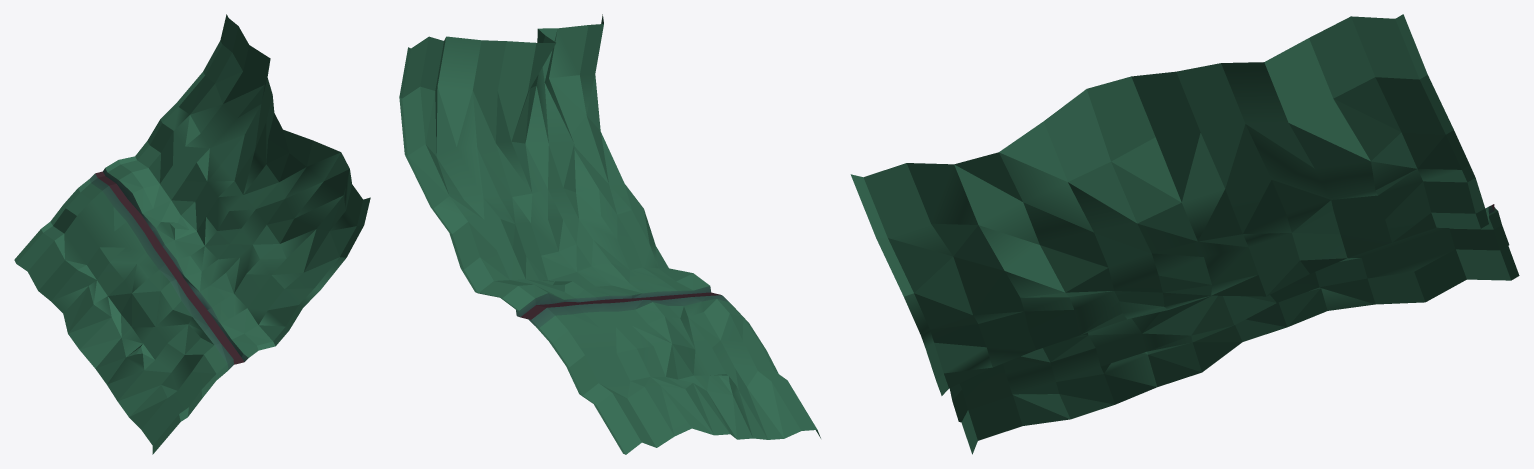
The model's file is groundPlane_3_20.glb.
The picture shows the model from 3 angles, left to right: view 1: azimuth 30°, elevation 25°; view 2: azimuth 150°, elevation 25°; view 3: azimuth 270°, elevation 25°; orthographic projection. The views are drawn at different scales.
Parts seen in each view (by area): view 1: groundPlane_3_10; view 2: groundPlane_3_10; view 3: groundPlane_3_10.
Part boxes in pixels (box(x1,y1,x2,y2)): groundPlane_3_10: box(14, 14, 370, 454); groundPlane_3_10: box(399, 14, 820, 454); groundPlane_3_10: box(850, 14, 1519, 454).
Size of the model in its own units: 86.79 by 131 by 129.
1 material, 1 textured.
